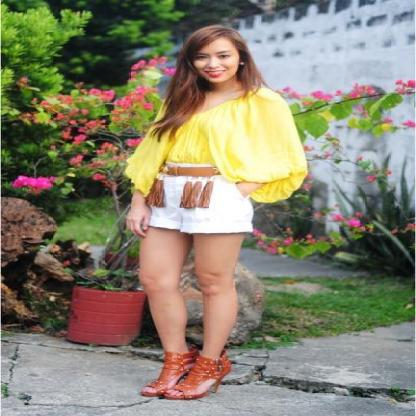jacket: (125, 83, 308, 202)
shoe: (140, 348, 231, 402)
shorts: (150, 162, 252, 232)
